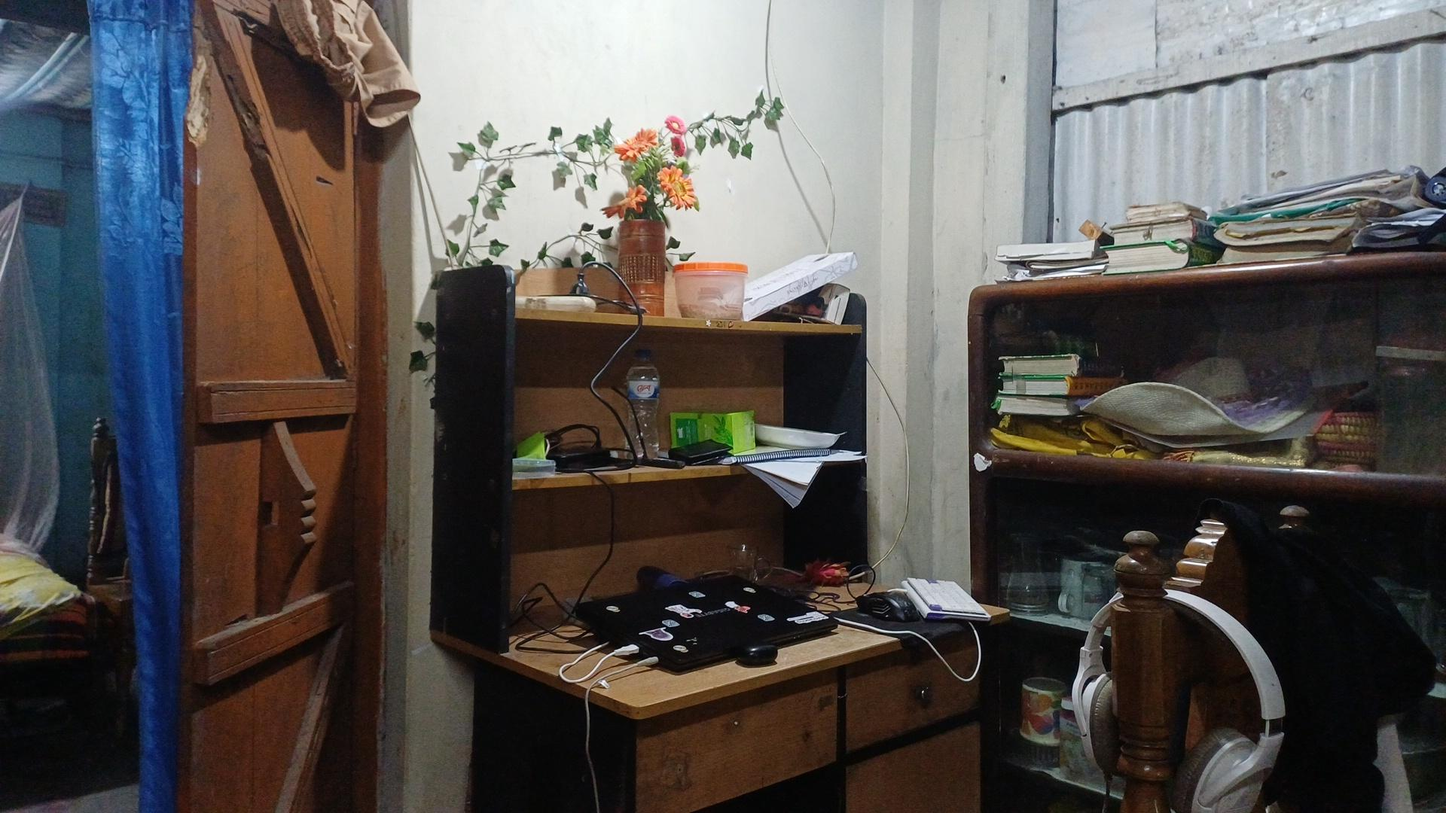Book: (983, 338, 1090, 456), (1098, 192, 1210, 278), (1221, 212, 1362, 265)
Bottle: (626, 346, 663, 464)
Box: (668, 404, 775, 457)
Door: (2, 6, 411, 789)
Food: (828, 683, 1016, 756), (665, 259, 747, 323)
Keyboard: (914, 556, 1004, 621)
Laptop: (558, 574, 847, 668)
Mouse: (857, 574, 901, 627)
Plant: (600, 113, 678, 312), (736, 288, 883, 333)
